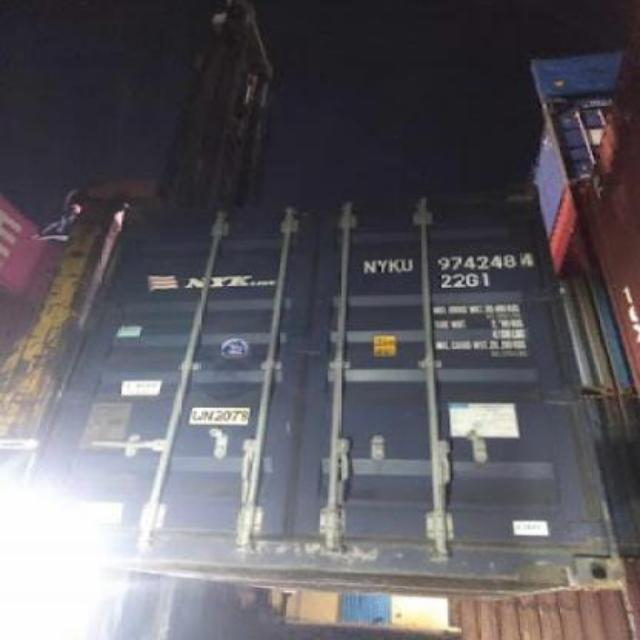2: (476, 254, 489, 272)
4: (520, 250, 536, 268), (490, 253, 504, 271), (464, 255, 476, 271)
7: (448, 254, 462, 272)
8: (501, 252, 517, 270)
9: (436, 255, 449, 272)
K: (388, 256, 400, 276)
N: (364, 256, 376, 276)
U: (402, 256, 414, 274)
Y: (378, 254, 388, 276)
